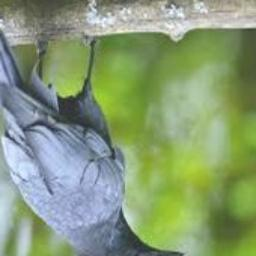Crow: (0, 14, 187, 256)
